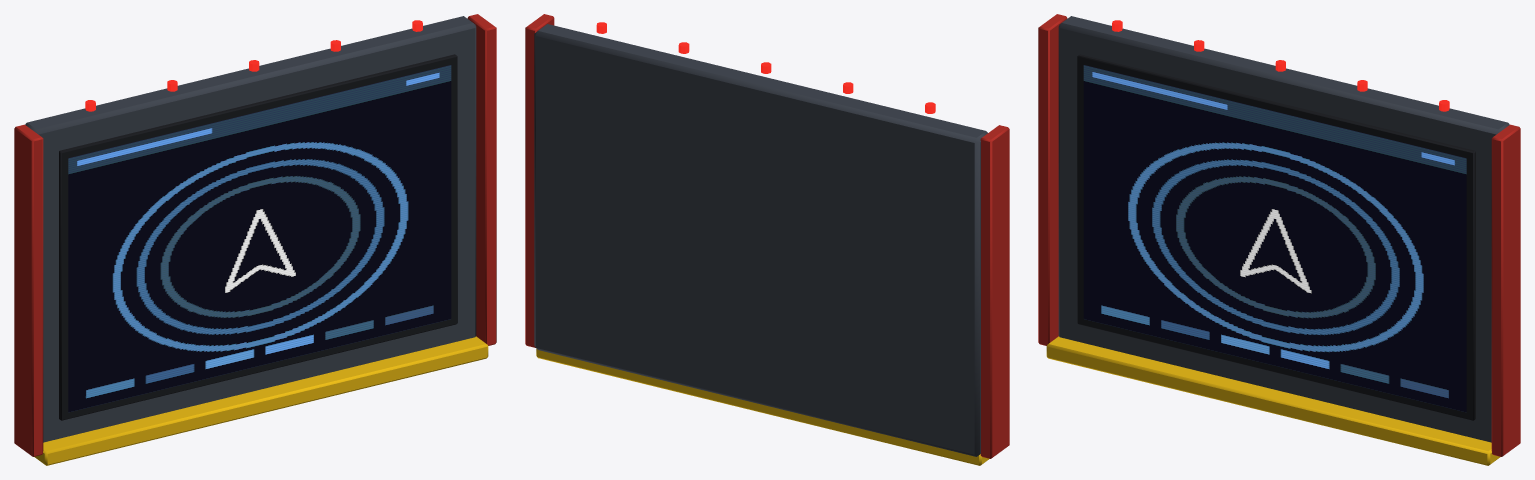
The model's file is display_tactical_wall_screen.glb.
3 renders of one model, left to right at view 1: azimuth 30°, elevation 25°; view 2: azimuth 150°, elevation 25°; view 3: azimuth 330°, elevation 25°, orthographic.
Parts seen in each view (by area): view 1: display_tactical_wall_screen; view 2: display_tactical_wall_screen; view 3: display_tactical_wall_screen.
Boxes of the visible parts, x1,y1,x2,y2 form: display_tactical_wall_screen: (14, 14, 496, 465); display_tactical_wall_screen: (525, 14, 1009, 465); display_tactical_wall_screen: (1038, 14, 1520, 465).
Bounding box in the file's own units: 1.99 × 1.39 × 0.18.
6 materials, 1 textured.
